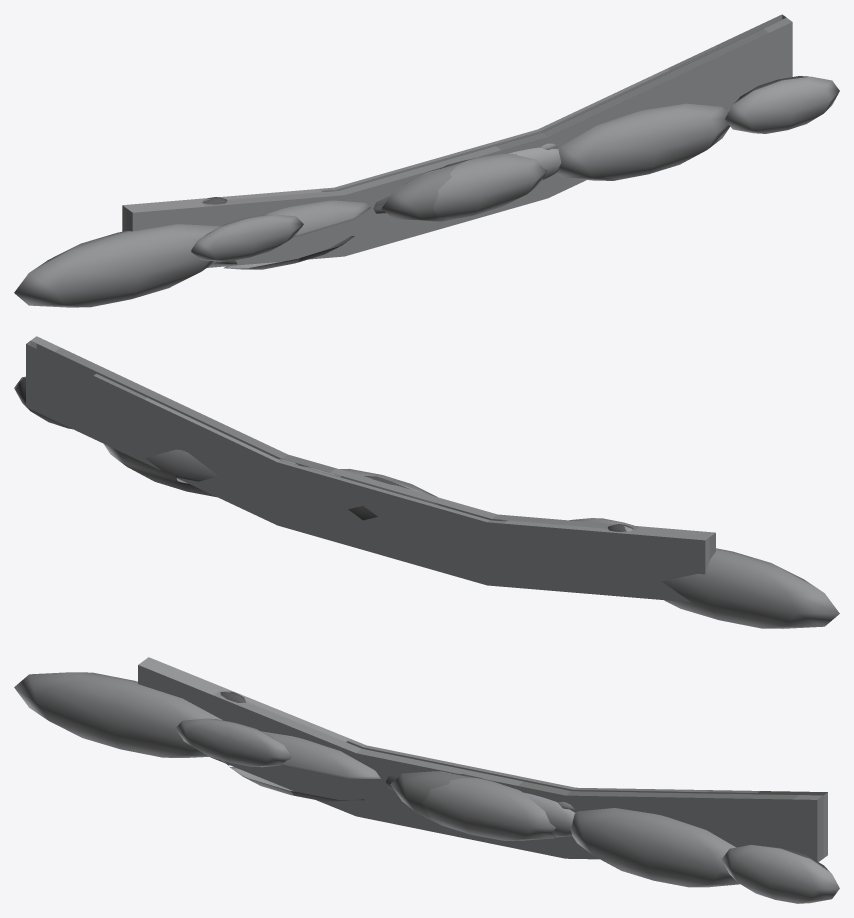
3 renders of one model, top to bottom at view 1: azimuth 30°, elevation 25°; view 2: azimuth 150°, elevation 25°; view 3: azimuth 330°, elevation 25°, orthographic. The views are drawn at different scales.
Size of the model in its own units: 0.9995 by 0.147 by 0.0772.
